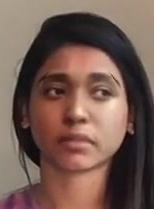eb_f: (36, 69, 122, 104)
